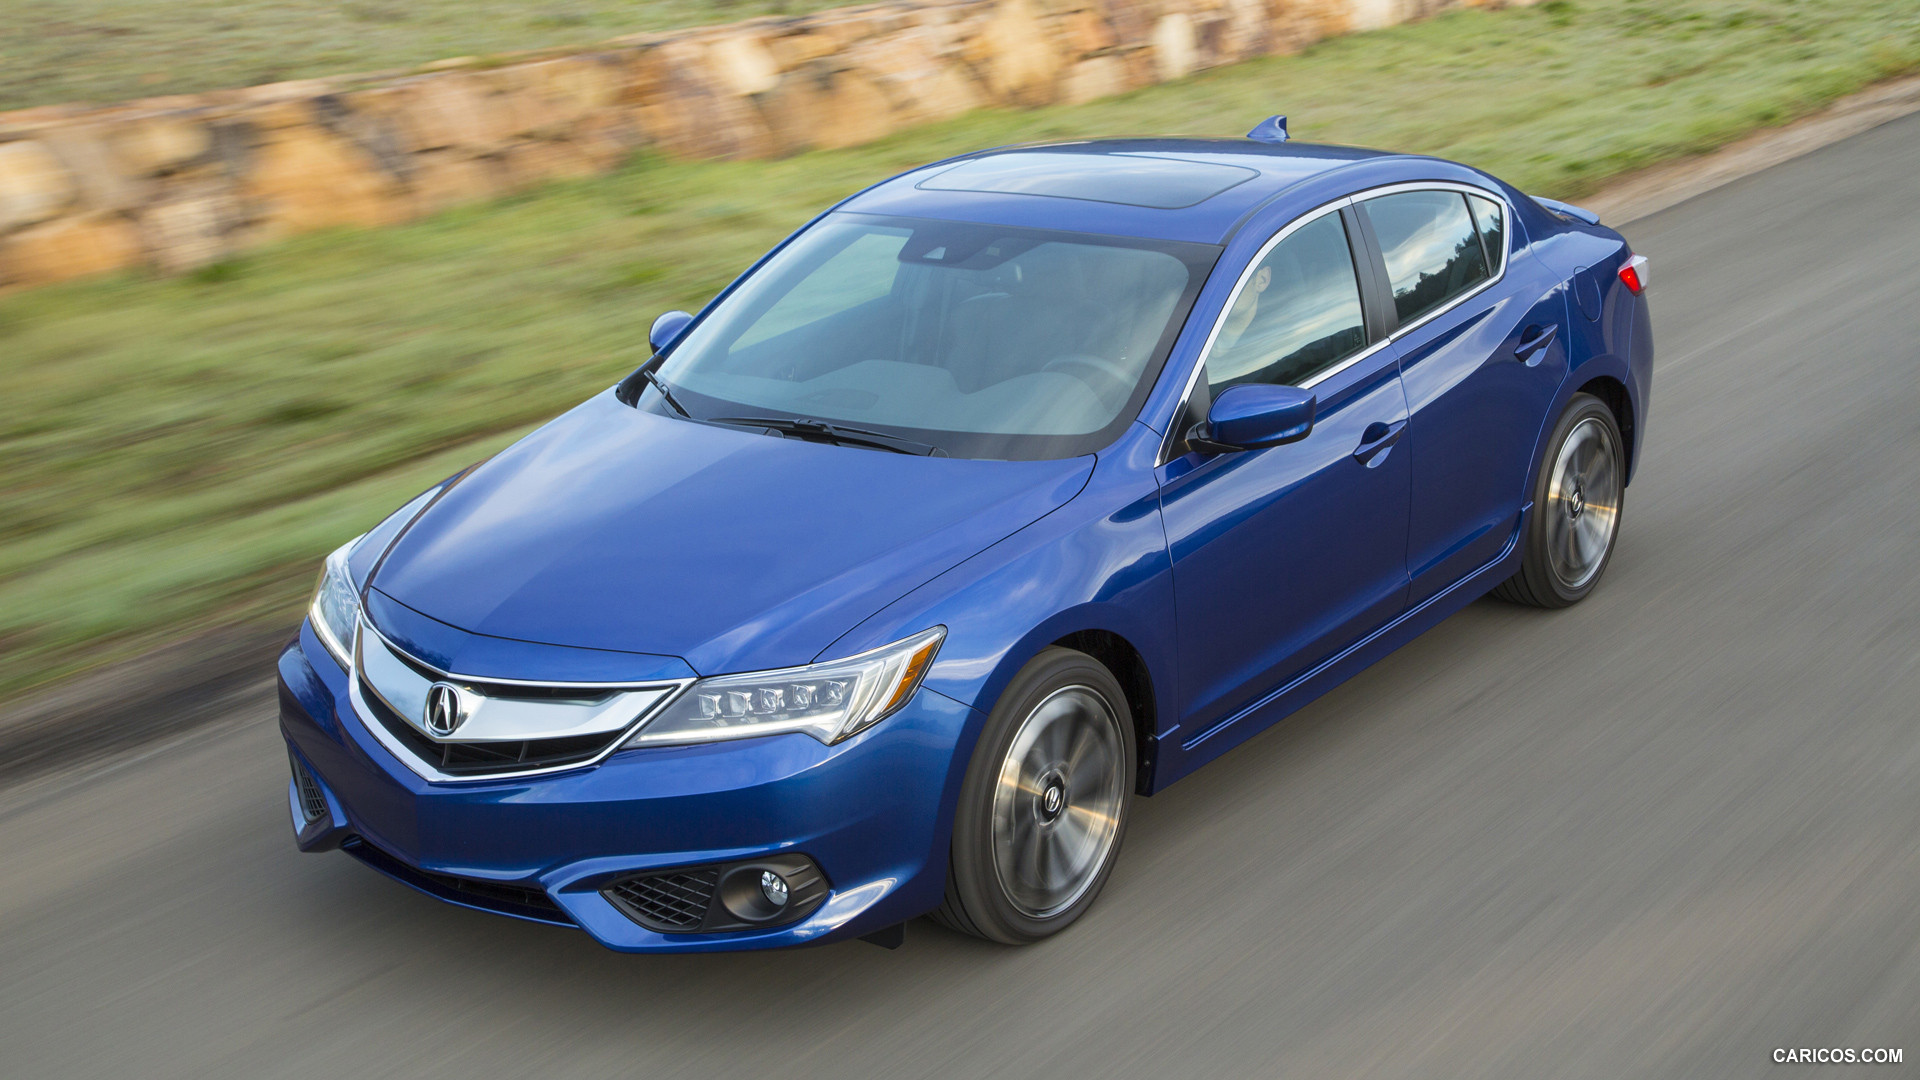Fog Lamp & Scope: (605, 845, 833, 938)
Front: (261, 477, 1025, 956)
Front Bumper: (262, 727, 942, 919)
Grill: (361, 615, 629, 778)
Headlight: (621, 622, 952, 753)
